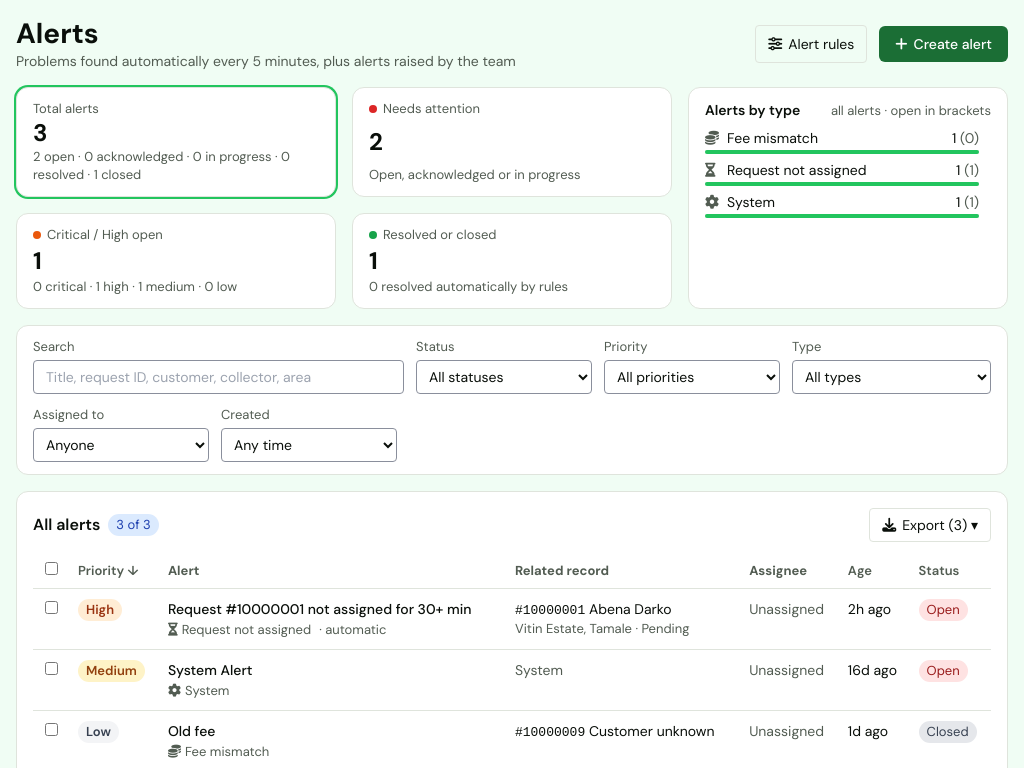
it: "Assign collector" assigns, logs the action and resolves the alert
Click the row with test id "alert-row" that starts with "High".
click(512, 619)  # box [33,588,991,650]
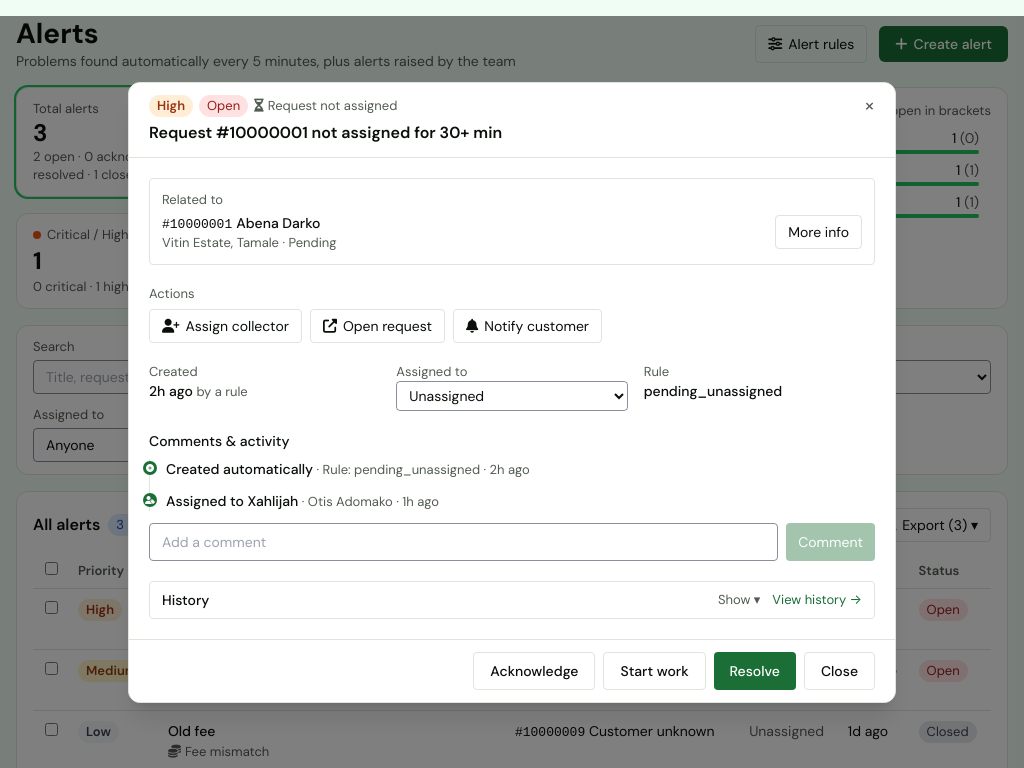
Click the button "Assign collector".
click(225, 326)  # box [149,308,302,342]
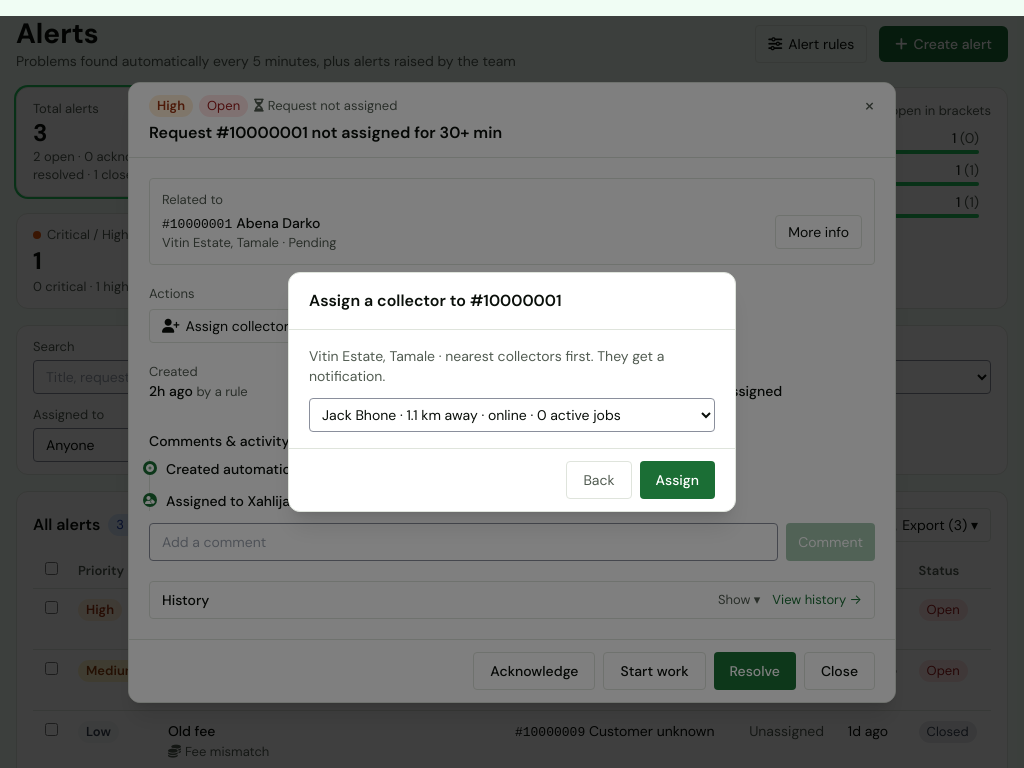
Click the button "Assign".
click(677, 480)  # box [640,461,715,499]
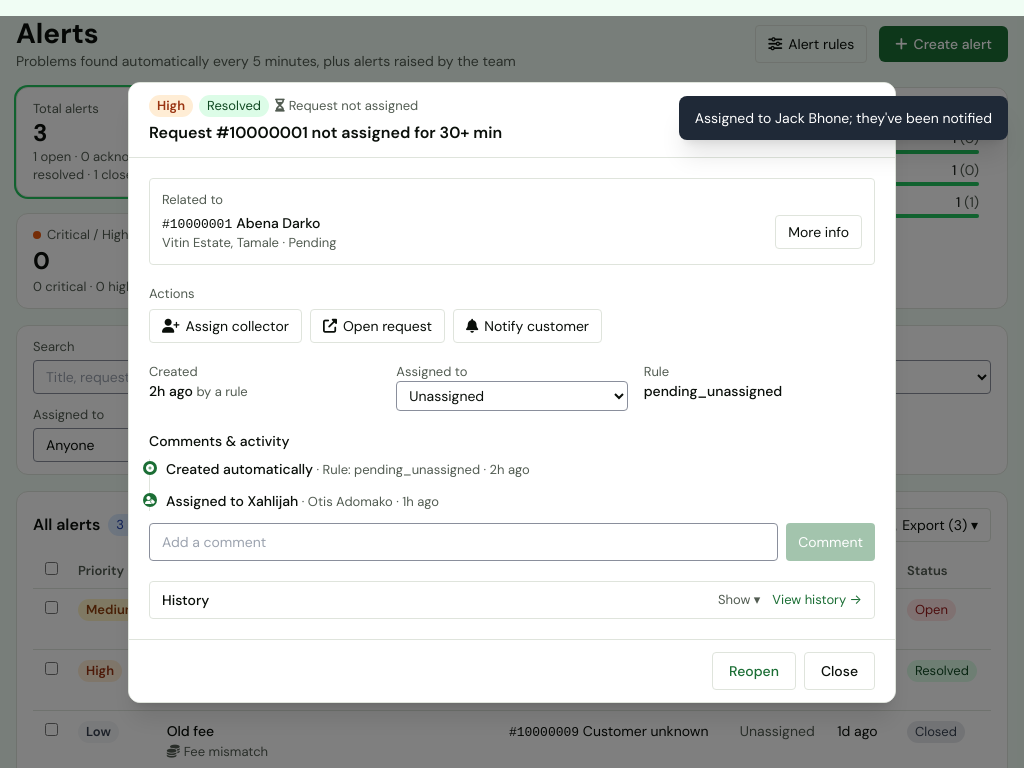
Expected: the text "Assigned to Jack Bhone; they've been notified" is shown, [679,96,1008,140]
